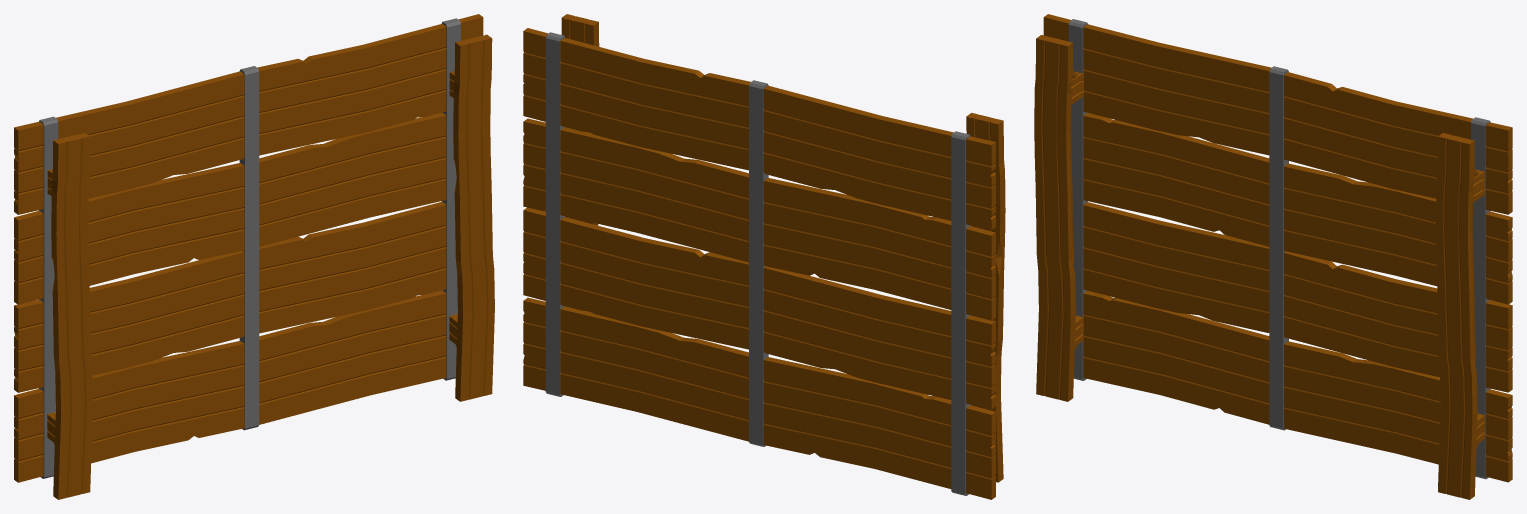
The model's file is wallrunplatform.fbx.
The picture shows the model from 3 angles, left to right: view 1: azimuth 30°, elevation 25°; view 2: azimuth 150°, elevation 25°; view 3: azimuth 330°, elevation 25°; orthographic projection.
Visible parts, largest first — view 1: Plane; view 2: Plane; view 3: Plane.
Part boxes in pixels (box(x1,y1,x2,y2)): Plane: box(14, 14, 494, 499); Plane: box(523, 14, 1005, 499); Plane: box(1034, 14, 1512, 499).
Bounding box in the file's own units: 436 × 321 × 46.67.
